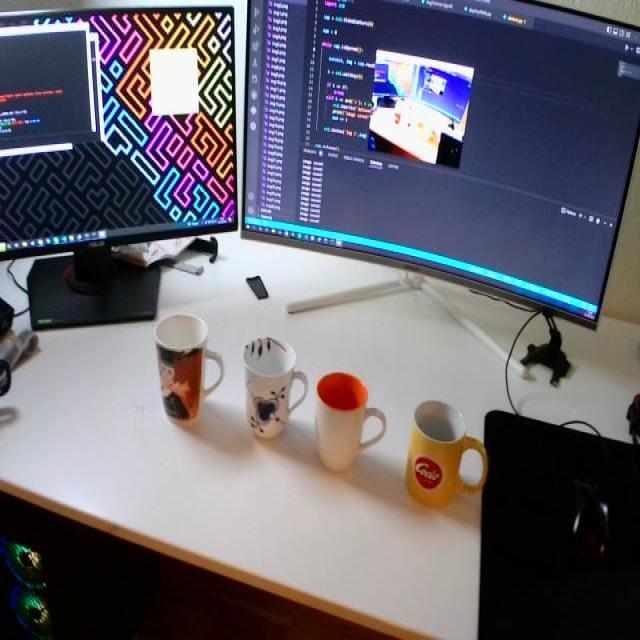cup: (405, 386, 491, 518), (316, 352, 384, 477), (152, 304, 221, 427), (238, 331, 308, 446)
